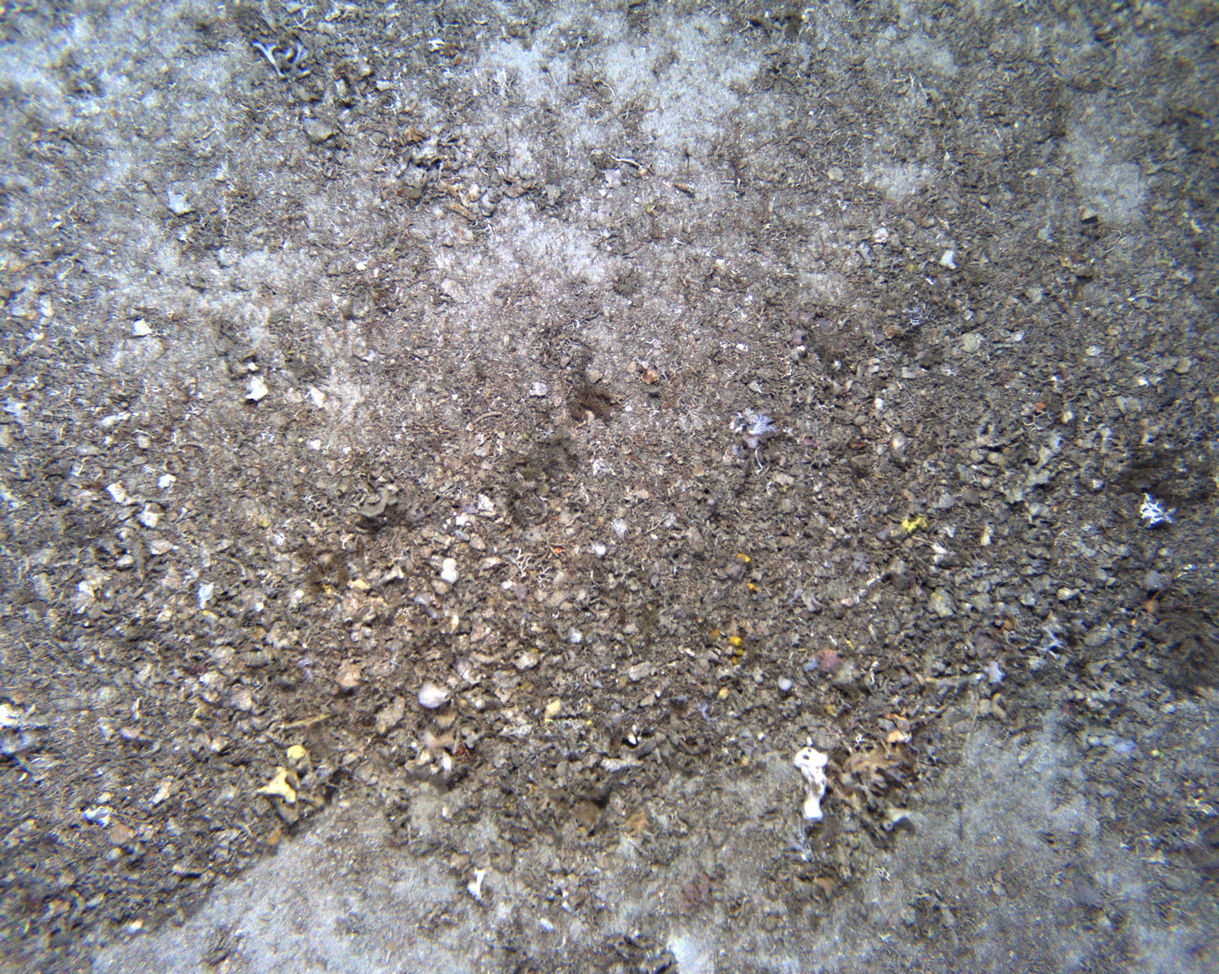Brachionichthyidae: (118, 723, 182, 751)
